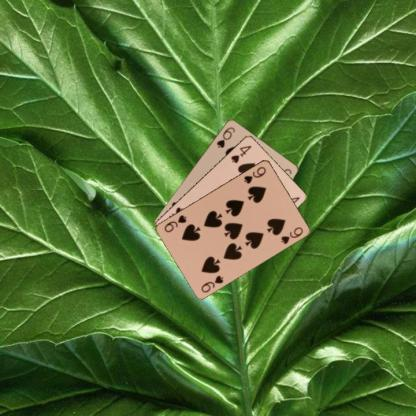4s: (228, 143, 253, 164)
6s: (214, 124, 236, 149)
9s: (242, 163, 268, 185), (199, 272, 225, 294)
